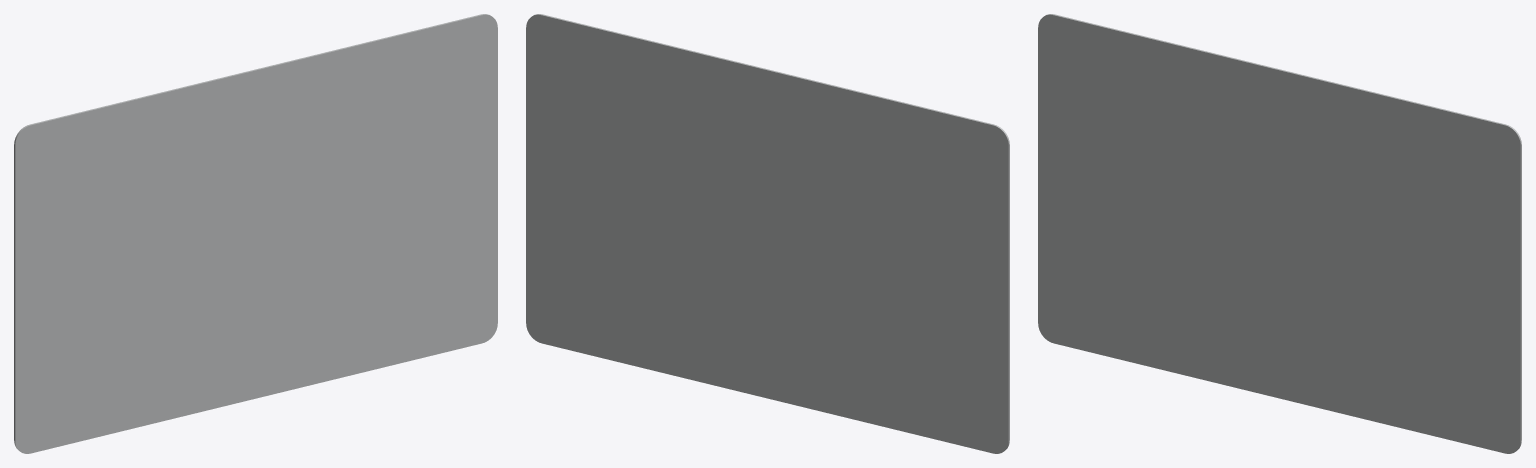
Rendered from vidrioEstufa.OBJ.
3 views of the same model, side by side, from view 1: azimuth 30°, elevation 25°; view 2: azimuth 150°, elevation 25°; view 3: azimuth 330°, elevation 25° (orthographic).
Parts seen in each view (by area): view 1: pCube450; view 2: pCube450; view 3: pCube450.
Part boxes in pixels (x1,y1,x2,y2): pCube450: (14,14,497,453); pCube450: (526,14,1009,453); pCube450: (1038,14,1521,453).
Bounding box in the file's own units: 2.23 × 1.45 × 0.00887.
1 material, 1 textured.
